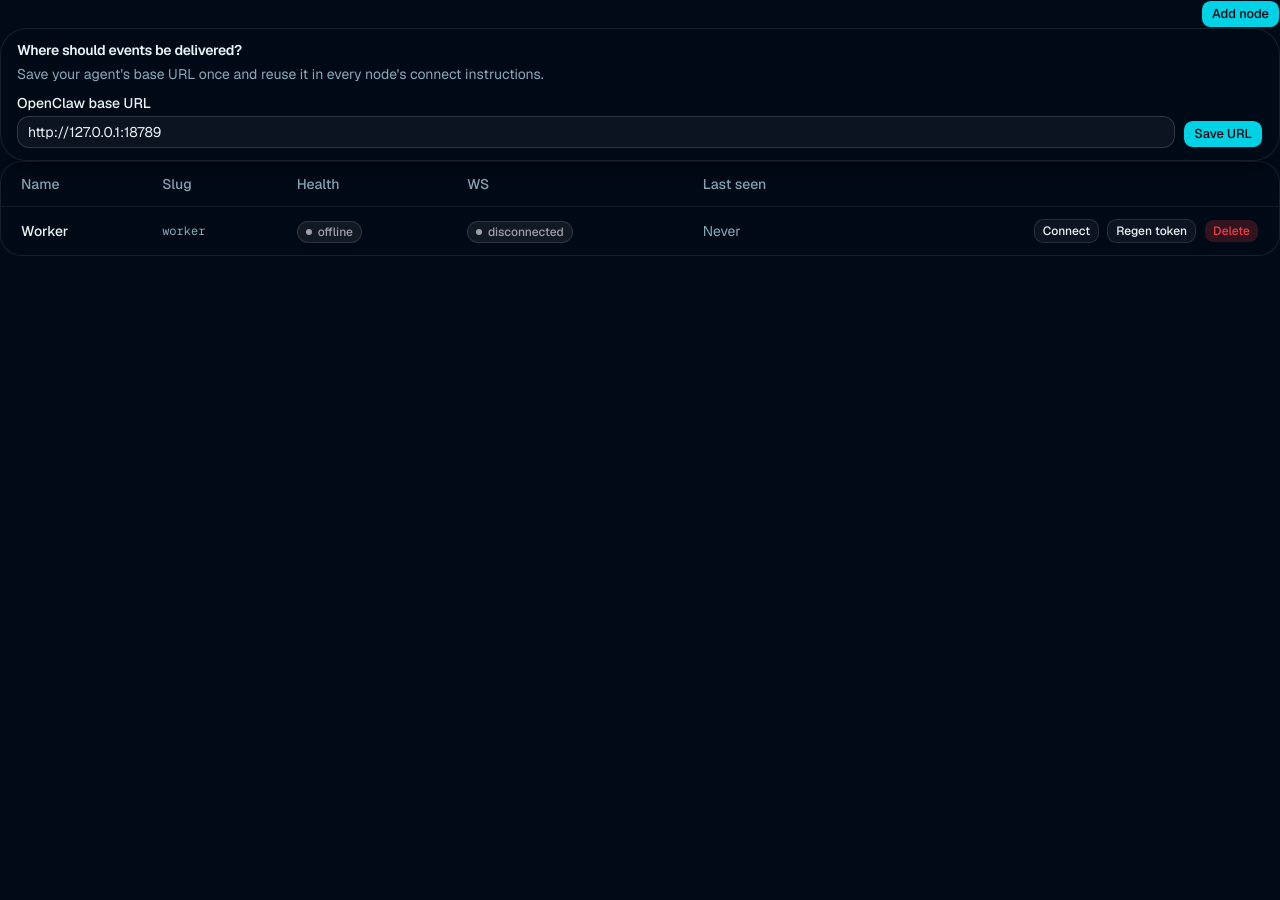
Scenario: NodesClient › deletes a node after confirming the modal
The width and height of the screenshot is (1280, 900).
Step 1. Click the button "Delete" → [1232, 231], box [1204,219,1259,243]
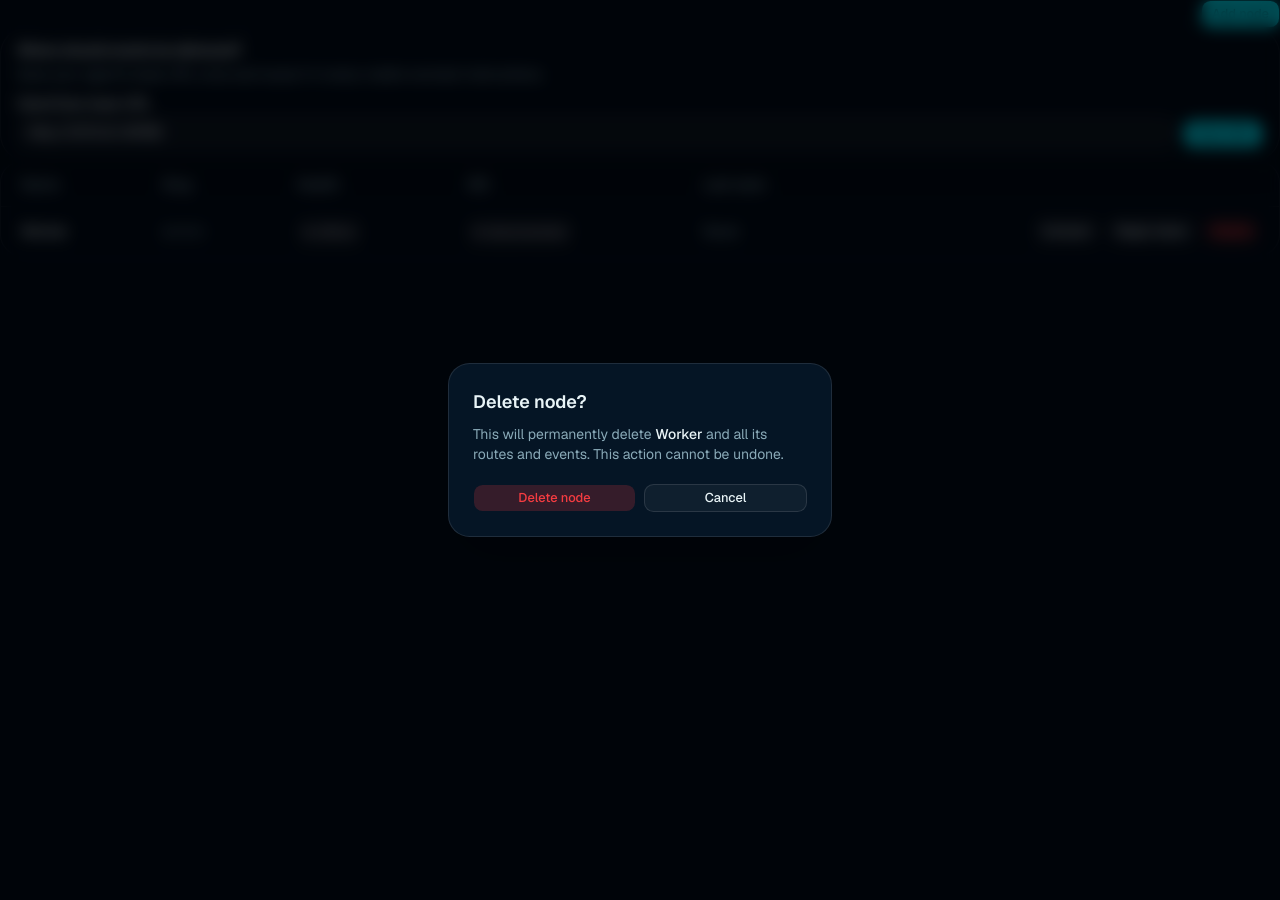
Expected: the button "Delete node" is shown
Step 2. Click the button "Delete node" → [554, 498], box [473,484,636,512]
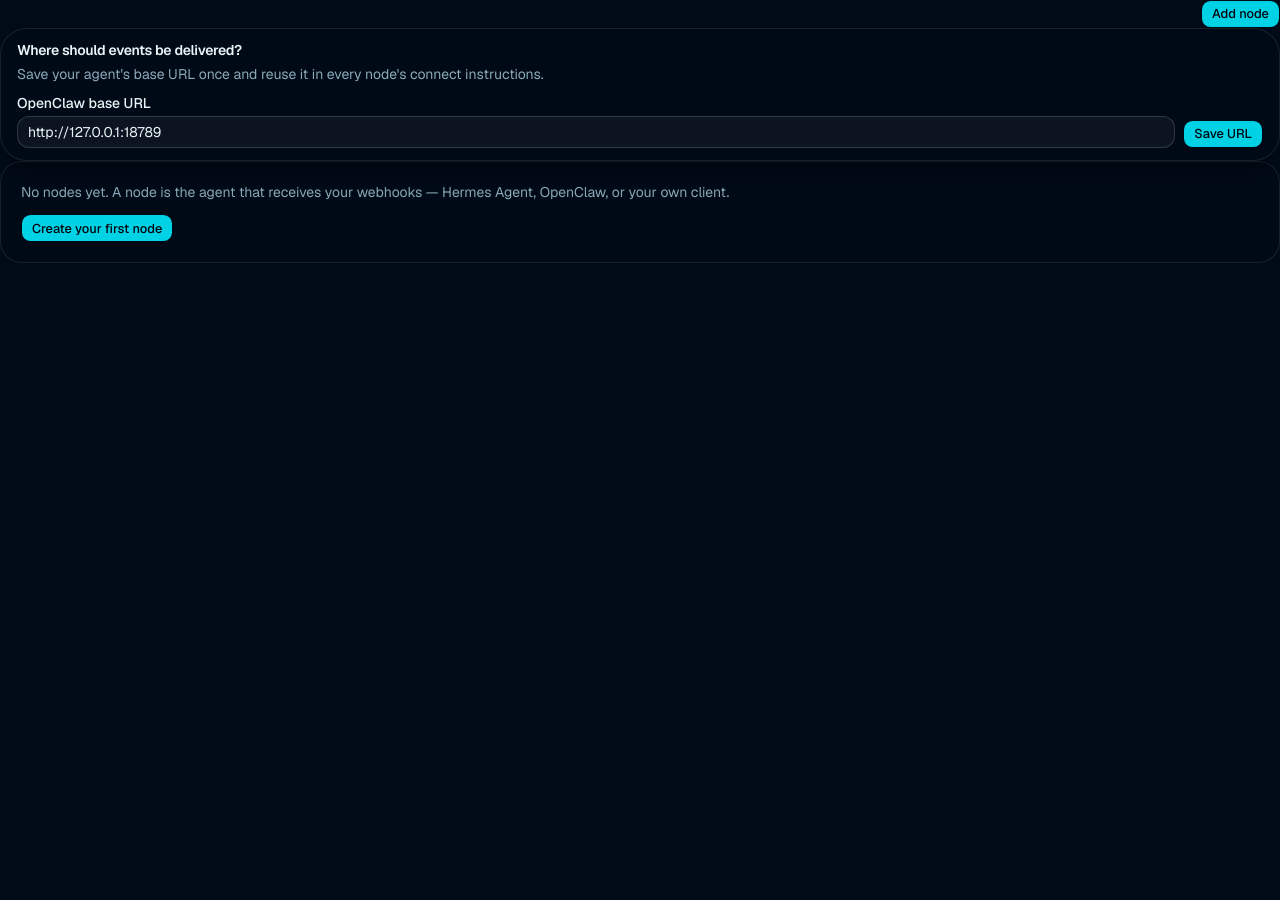
Expected: the text "No nodes yet" is shown, [21,183,729,201]
